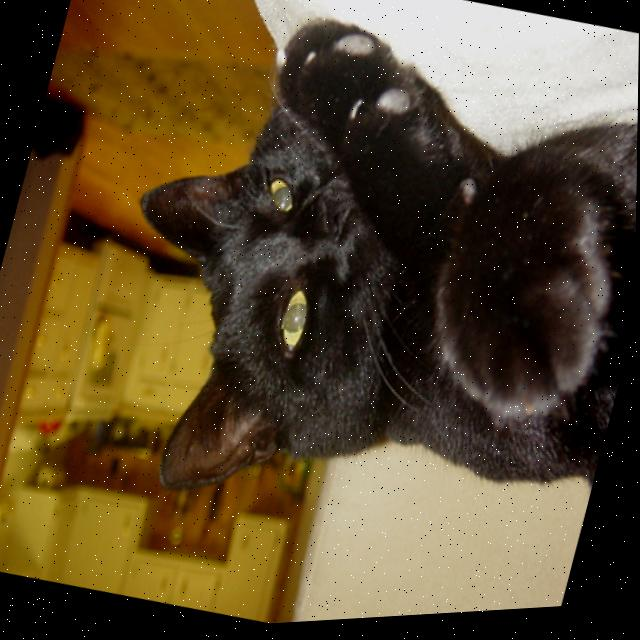Bombay: (63, 0, 640, 598)
